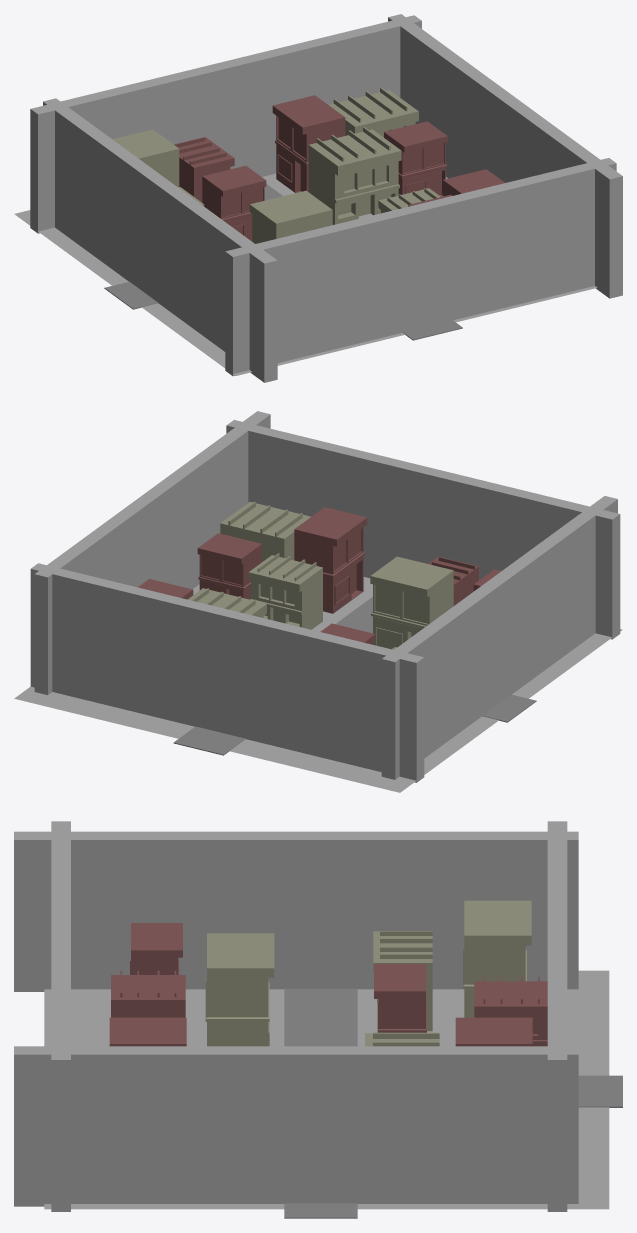
Rendered from Environment.fbx.
The picture shows the model from 3 angles, top to bottom: view 1: azimuth 30°, elevation 25°; view 2: azimuth 150°, elevation 25°; view 3: azimuth 270°, elevation 25°; orthographic projection. The views are drawn at different scales.
Parts seen in each view (by area): view 1: Environment; view 2: Environment; view 3: Environment.
Part boxes in pixels (x1,y1,x2,y2): Environment: (14,14,622,382); Environment: (14,411,622,792); Environment: (14,821,622,1218).
Bounding box in the file's own units: 7045 × 2044 × 7179.
